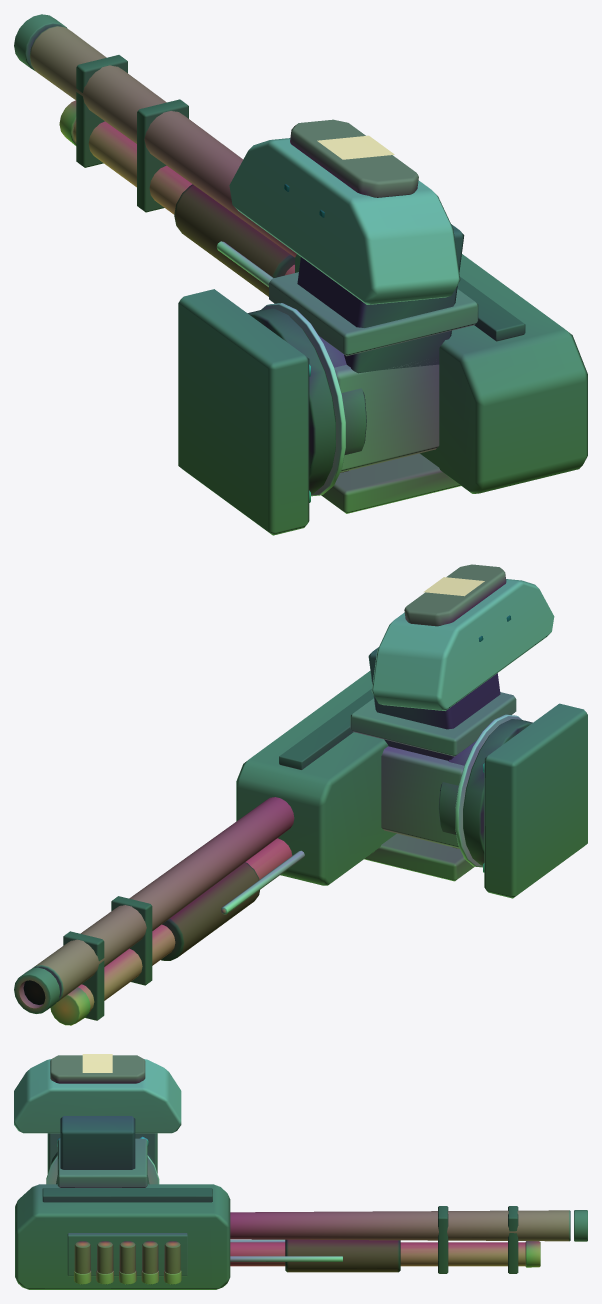
Rendered from arm_ks60.glb.
3 views of the same model, one above another, from view 1: azimuth 30°, elevation 25°; view 2: azimuth 150°, elevation 25°; view 3: azimuth 270°, elevation 25° (orthographic). The views are drawn at different scales.
Parts seen in each view (by area): view 1: Body__gunmetal, Body__armor, Body__armor_dark, Body__dark, Body__armor_sub, Body__rubber, Body__armor_oxide, Body__chrome, Body__decal; view 2: Body__gunmetal, Body__armor, Body__armor_dark, Body__dark, Body__armor_sub, Body__rubber, Body__armor_oxide, Body__chrome, Body__brass, Body__decal; view 3: Body__armor_dark, Body__gunmetal, Body__armor, Body__dark, Body__armor_sub, Body__armor_oxide, Body__rubber, Body__chrome, Body__brass, Body__decal.
Part boxes in pixels (x1,y1,x2,y2): Body__gunmetal: (14,14,366,535); Body__armor: (229,138,460,472); Body__armor_dark: (295,254,587,493); Body__dark: (76,55,525,493); Body__armor_sub: (73,121,478,513); Body__rubber: (174,184,294,296); Body__armor_oxide: (290,119,418,197); Body__chrome: (216,241,345,502); Body__decal: (317,135,394,159); Body__gunmetal: (14,703,587,1013); Body__armor: (371,579,554,848); Body__armor_dark: (236,671,396,885); Body__dark: (63,615,532,1020); Body__armor_sub: (78,692,516,1011); Body__rubber: (161,862,259,960); Body__armor_oxide: (404,564,506,626); Body__chrome: (221,714,521,914); Body__brass: (50,987,90,1025); Body__decal: (423,577,484,596); Body__armor_dark: (15,1184,230,1289); Body__gunmetal: (47,1133,587,1276); Body__armor: (14,1059,181,1133); Body__dark: (42,1116,518,1273); Body__armor_sub: (57,1138,525,1266); Body__armor_oxide: (50,1055,180,1273); Body__rubber: (285,1239,400,1272); Body__chrome: (46,1136,342,1261); Body__brass: (74,1241,540,1284); Body__decal: (82,1054,112,1072).
Size of the model in its own units: 0.866 by 0.8902 by 2.29.
